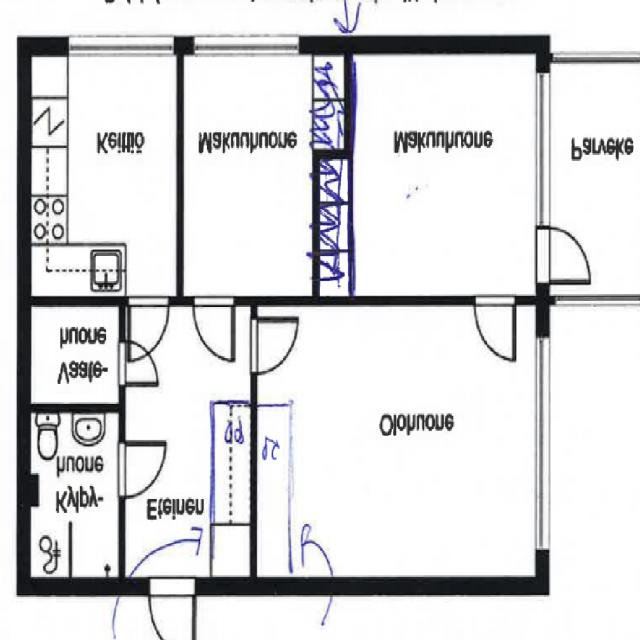door: (536, 228, 590, 283), (150, 578, 197, 640), (129, 296, 169, 361), (194, 296, 234, 361), (475, 296, 515, 361), (251, 318, 298, 373), (119, 442, 166, 496), (119, 340, 159, 386)
